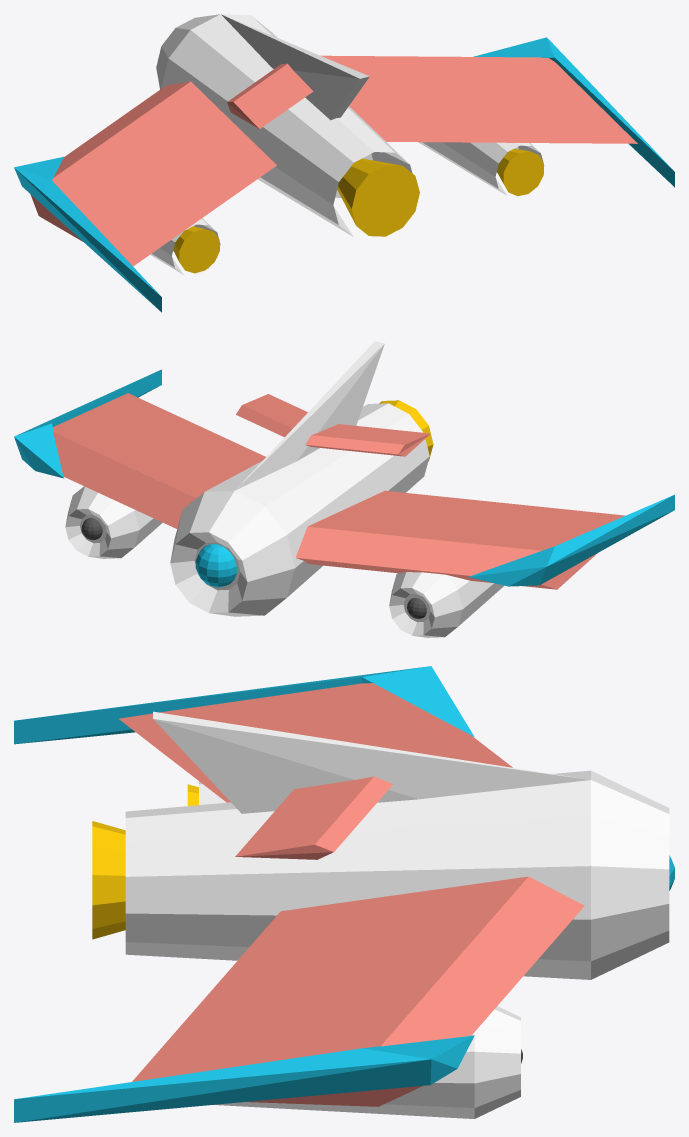
File: spaceship2.gltf
The picture shows the model from 3 angles, top to bottom: view 1: azimuth 30°, elevation 25°; view 2: azimuth 150°, elevation 25°; view 3: azimuth 270°, elevation 25°; orthographic projection. The views are drawn at different scales.
Visible parts, largest first — view 1: group85514438, group341759224, group339845079, group73016968, group319342690, group1445929448, group1653671466, group1311265493, group798745603, group1393108587, group1476139996; view 2: group85514438, group341759224, group1476139996, group73016968, group1445929448, group319342690, group1311265493, group1653671466, group1414778201, group339845079; view 3: group341759224, group85514438, group73016968, group1653671466, group1311265493, group1445929448, group319342690, group339845079.
Boxes of the visible parts, left/top/right/bottom form: group85514438: left=30, top=55, right=637, bottom=266; group341759224: left=156, top=14, right=412, bottom=237; group339845079: left=337, top=158, right=419, bottom=236; group73016968: left=221, top=14, right=369, bottom=120; group319342690: left=227, top=61, right=421, bottom=129; group1445929448: left=14, top=156, right=161, bottom=312; group1653671466: left=473, top=37, right=674, bottom=187; group1311265493: left=418, top=142, right=544, bottom=196; group798745603: left=497, top=148, right=543, bottom=196; group1393108587: left=173, top=226, right=219, bottom=273; group1476139996: left=150, top=218, right=220, bottom=275; group85514438: left=53, top=393, right=624, bottom=589; group341759224: left=170, top=403, right=429, bottom=616; group1476139996: left=389, top=572, right=503, bottom=637; group73016968: left=235, top=341, right=384, bottom=490; group1445929448: left=468, top=494, right=674, bottom=586; group319342690: left=236, top=394, right=430, bottom=456; group1311265493: left=65, top=486, right=162, bottom=558; group1653671466: left=14, top=369, right=161, bottom=478; group1414778201: left=195, top=544, right=236, bottom=587; group339845079: left=379, top=400, right=433, bottom=461; group341759224: left=125, top=770, right=669, bottom=979; group85514438: left=118, top=683, right=584, bottom=1106; group73016968: left=153, top=711, right=589, bottom=813; group1653671466: left=14, top=1035, right=474, bottom=1122; group1311265493: left=214, top=1006, right=520, bottom=1118; group1445929448: left=14, top=666, right=474, bottom=744; group319342690: left=235, top=724, right=392, bottom=859; group339845079: left=92, top=821, right=125, bottom=939.
Size of the model in its own units: 1.07 by 0.3459 by 0.76.
